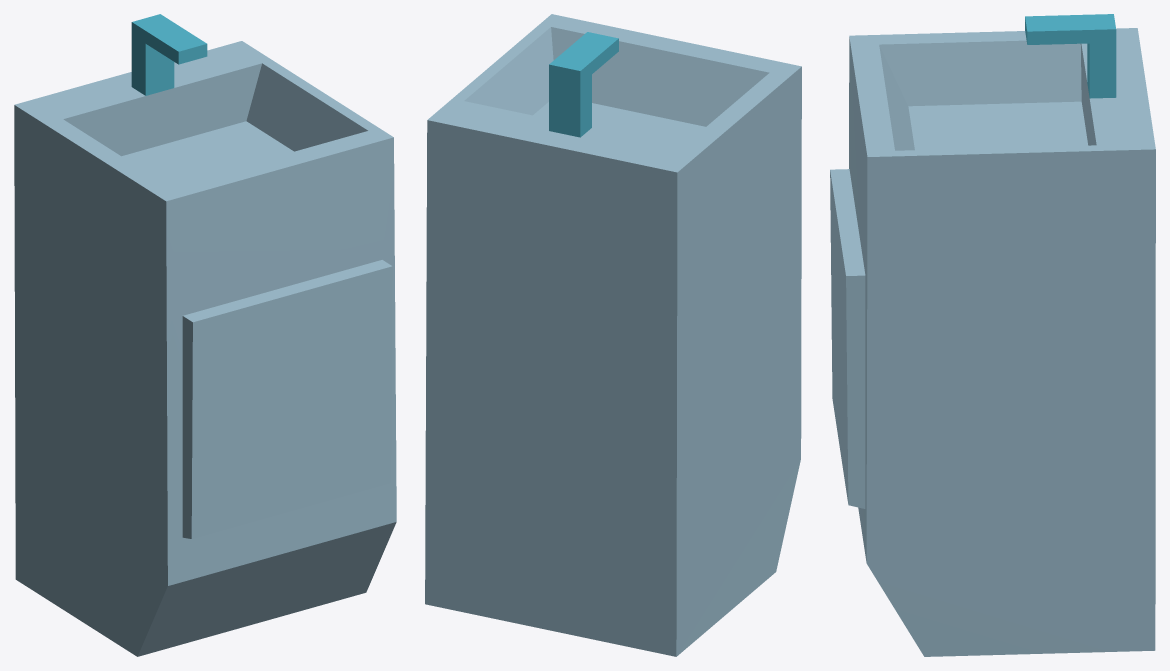
File: sink.fbx
3 renders of one model, left to right at view 1: azimuth 30°, elevation 25°; view 2: azimuth 150°, elevation 25°; view 3: azimuth 270°, elevation 25°, orthographic. The views are drawn at different scales.
Visible parts, largest first — view 1: sink; view 2: sink; view 3: sink.
Boxes of the visible parts, x1,y1,x2,y2 form: sink: [14, 14, 396, 656]; sink: [425, 14, 801, 656]; sink: [830, 14, 1155, 656].
Bounding box in the file's own units: 64.24 × 131 × 67.82.
